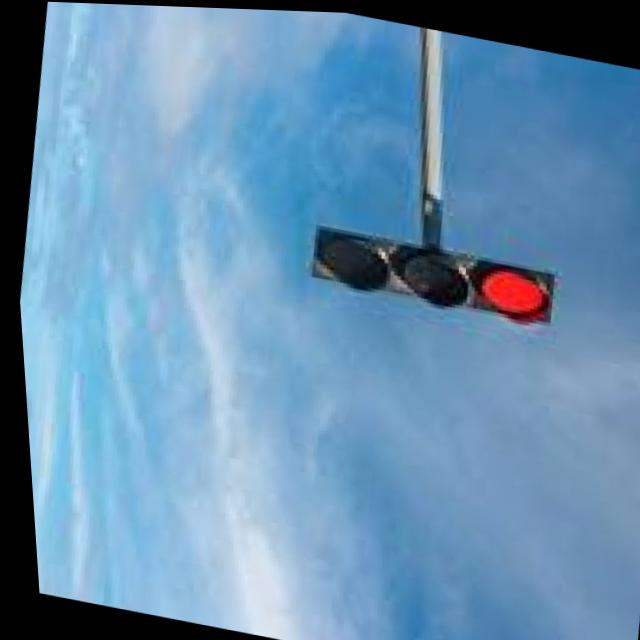red_light: (455, 211, 569, 358)
